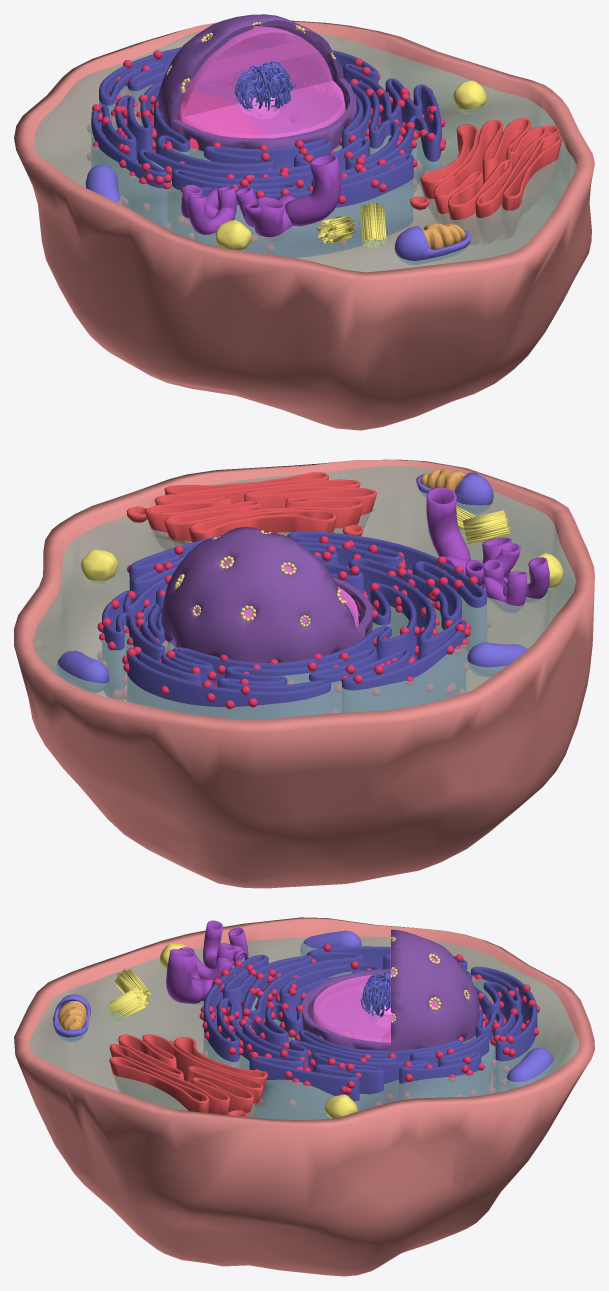
The model's file is animal-cell.web.glb.
3 renders of one model, top to bottom at view 1: azimuth 30°, elevation 25°; view 2: azimuth 150°, elevation 25°; view 3: azimuth 270°, elevation 25°, orthographic. The views are drawn at different scales.
Visible parts, largest first — view 1: Sphere_13, Sphere.001_18, BezierCurve_15, BezierCurve.002_14, Roundcube_10, Icosphere_16, BezierCurve.006_27, Roundcube.000_12, Sphere.023_22, Sphere.002_17, BezierCurve.004_26, Object_4054 (+3 smaller); view 2: Sphere_13, BezierCurve_15, Sphere.001_18, Icosphere_16, BezierCurve.002_14, Sphere.002_17, BezierCurve.006_27, Roundcube.000_12, BezierCurve.005_25, BezierCurve.004_26, Icosphere.002_9, Sphere.005_8; view 3: Sphere_13, BezierCurve_15, Sphere.001_18, Icosphere_16, BezierCurve.002_14, Roundcube_10, Sphere.002_17, Roundcube.000_12, BezierCurve.006_27, BezierCurve.004_26, BezierCurve.005_25, Sphere.005_8 (+1 smaller).
Part boxes in pixels (left/top/right/bottom): Sphere_13: left=14, top=20, right=594, bottom=430; Sphere.001_18: left=34, top=31, right=576, bottom=272; BezierCurve_15: left=91, top=47, right=441, bottom=257; BezierCurve.002_14: left=410, top=118, right=562, bottom=245; Roundcube_10: left=177, top=26, right=345, bottom=139; Icosphere_16: left=158, top=14, right=356, bottom=159; BezierCurve.006_27: left=254, top=154, right=341, bottom=242; Roundcube.000_12: left=215, top=80, right=486, bottom=250; Sphere.023_22: left=135, top=90, right=266, bottom=230; Sphere.002_17: left=85, top=164, right=471, bottom=264; BezierCurve.004_26: left=188, top=187, right=261, bottom=236; Object_4054: left=232, top=62, right=291, bottom=115; Sphere_13: left=14, top=459, right=594, bottom=888; BezierCurve_15: left=102, top=531, right=486, bottom=719; Sphere.001_18: left=32, top=465, right=576, bottom=719; Icosphere_16: left=161, top=527, right=372, bottom=662; BezierCurve.002_14: left=126, top=472, right=377, bottom=550; Sphere.002_17: left=56, top=472, right=527, bottom=693; BezierCurve.006_27: left=426, top=487, right=511, bottom=577; Roundcube.000_12: left=81, top=506, right=563, bottom=589; BezierCurve.005_25: left=481, top=559, right=526, bottom=613; BezierCurve.004_26: left=465, top=543, right=549, bottom=602; Icosphere.002_9: left=174, top=530, right=346, bottom=626; Sphere.005_8: left=420, top=469, right=465, bottom=492; Sphere_13: left=14, top=917, right=594, bottom=1276; BezierCurve_15: left=203, top=946, right=537, bottom=1119; Sphere.001_18: left=30, top=936, right=578, bottom=1119; Icosphere_16: left=302, top=929, right=479, bottom=1051; BezierCurve.002_14: left=109, top=1034, right=267, bottom=1116; Roundcube_10: left=311, top=941, right=466, bottom=1042; Sphere.002_17: left=53, top=930, right=553, bottom=1089; Roundcube.000_12: left=107, top=943, right=357, bottom=1118; BezierCurve.006_27: left=166, top=949, right=213, bottom=1004; BezierCurve.004_26: left=179, top=920, right=233, bottom=979; BezierCurve.005_25: left=216, top=927, right=248, bottom=967; Sphere.005_8: left=57, top=1001, right=86, bottom=1030.
Bounding box in the file's own units: 5.96 × 3.98 × 7.04.
